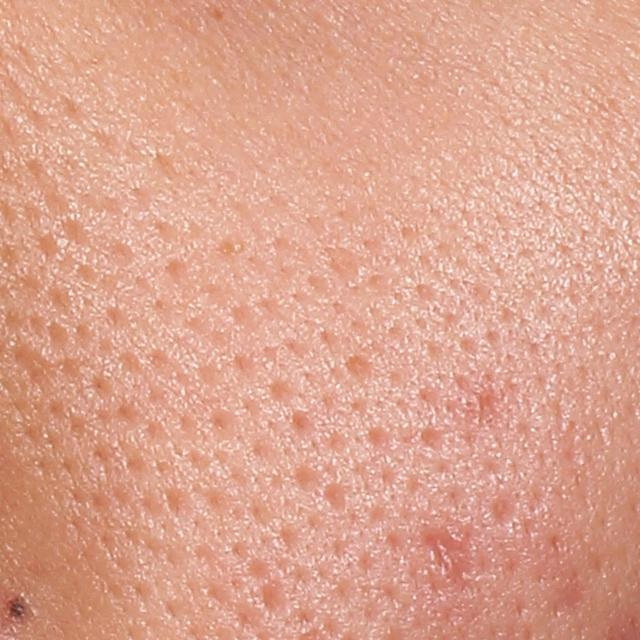atrophic_scar: (424, 529, 479, 599), (457, 378, 504, 428), (12, 347, 57, 395), (554, 571, 587, 617), (258, 581, 292, 625), (342, 351, 377, 376), (488, 495, 514, 526), (321, 483, 346, 510)
nevus: (2, 591, 31, 627)
